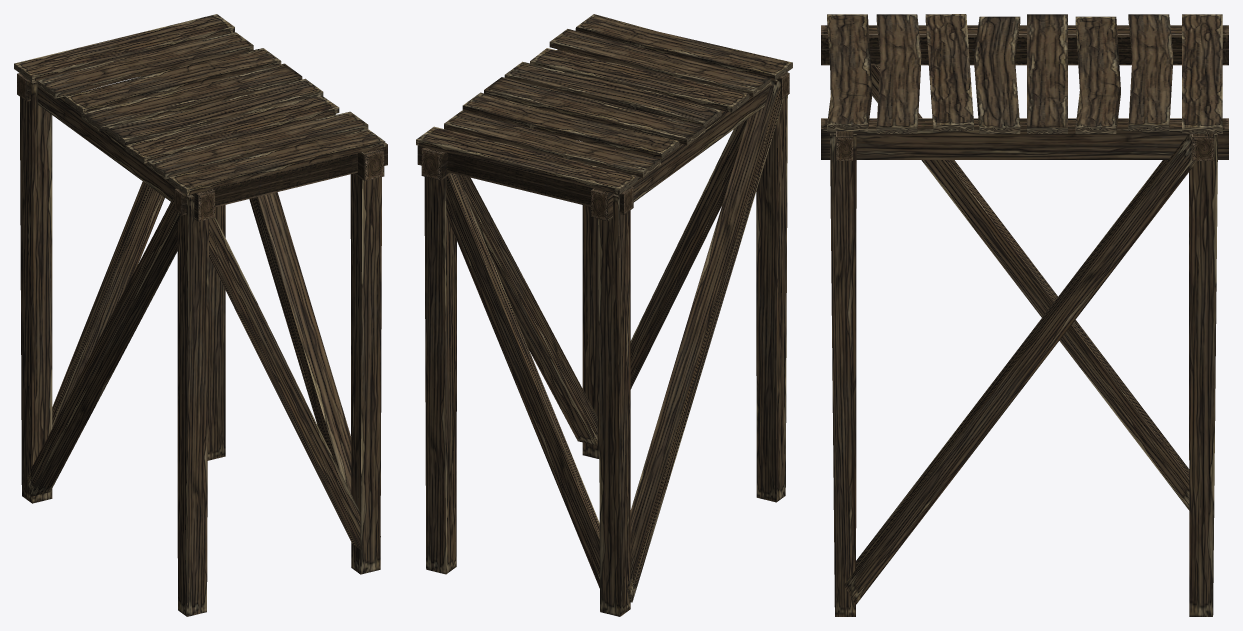
File: Wood_4X8X6_02.fbx
3 views of the same model, side by side, from view 1: azimuth 30°, elevation 25°; view 2: azimuth 150°, elevation 25°; view 3: azimuth 270°, elevation 25° (orthographic). The views are drawn at different scales.
Parts seen in each view (by area): view 1: Wood_4X8X6_02; view 2: Wood_4X8X6_02; view 3: Wood_4X8X6_02.
Boxes of the visible parts, x1=… form: Wood_4X8X6_02: x1=14, y1=14, x2=387, y2=616; Wood_4X8X6_02: x1=416, y1=14, x2=792, y2=616; Wood_4X8X6_02: x1=821, y1=14, x2=1228, y2=616.
Size of the model in its own units: 4 by 8 by 6.
